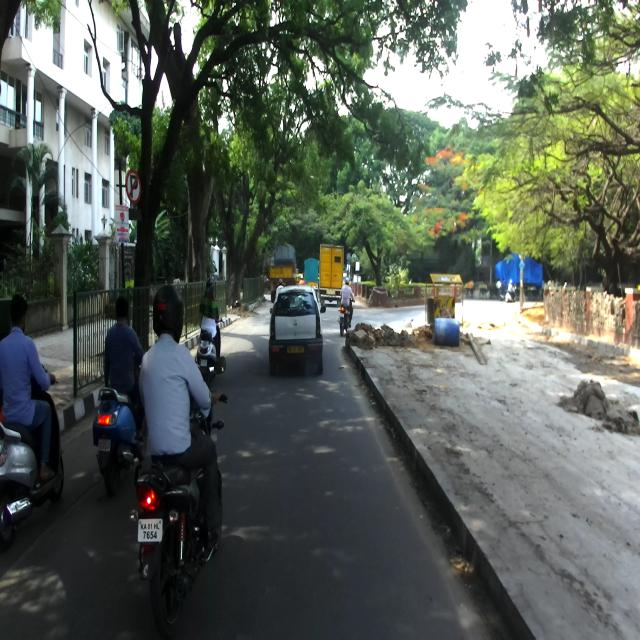car ahead at: (270, 281, 326, 376)
motorcycle ahead at: (131, 457, 224, 640), (0, 409, 68, 544), (90, 384, 134, 486)
